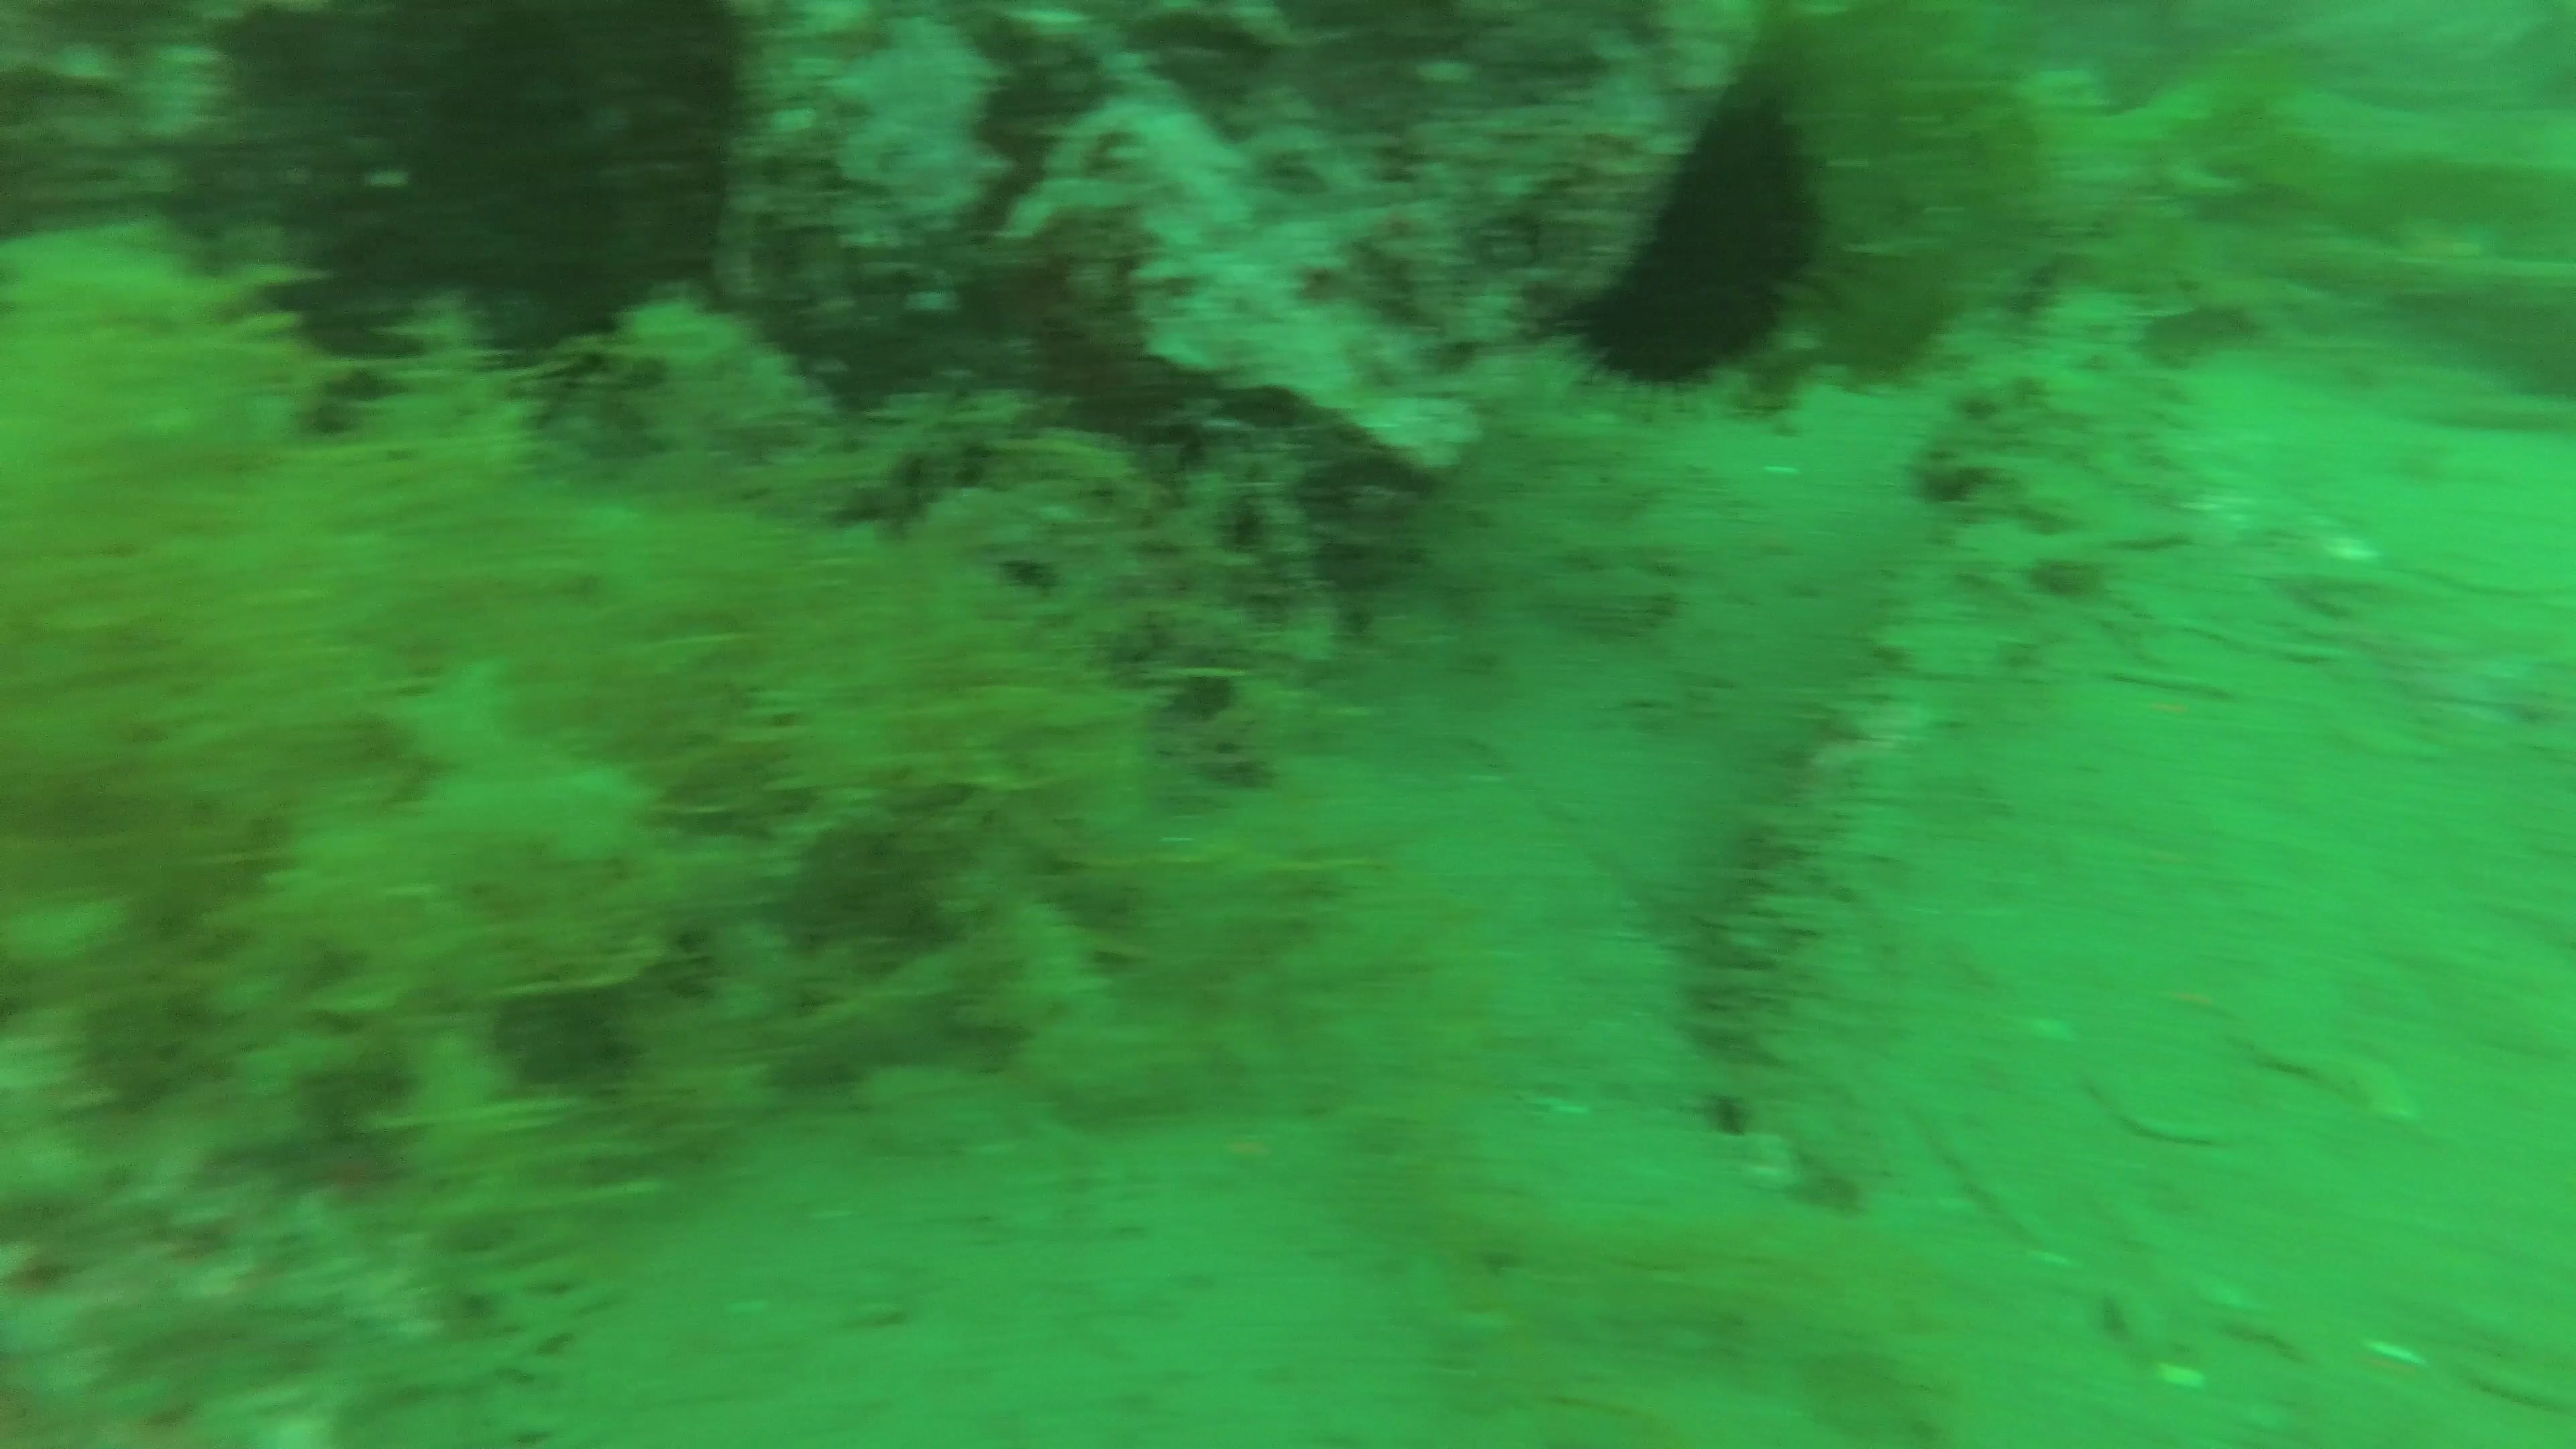echinus: (1536, 83, 1833, 425)
